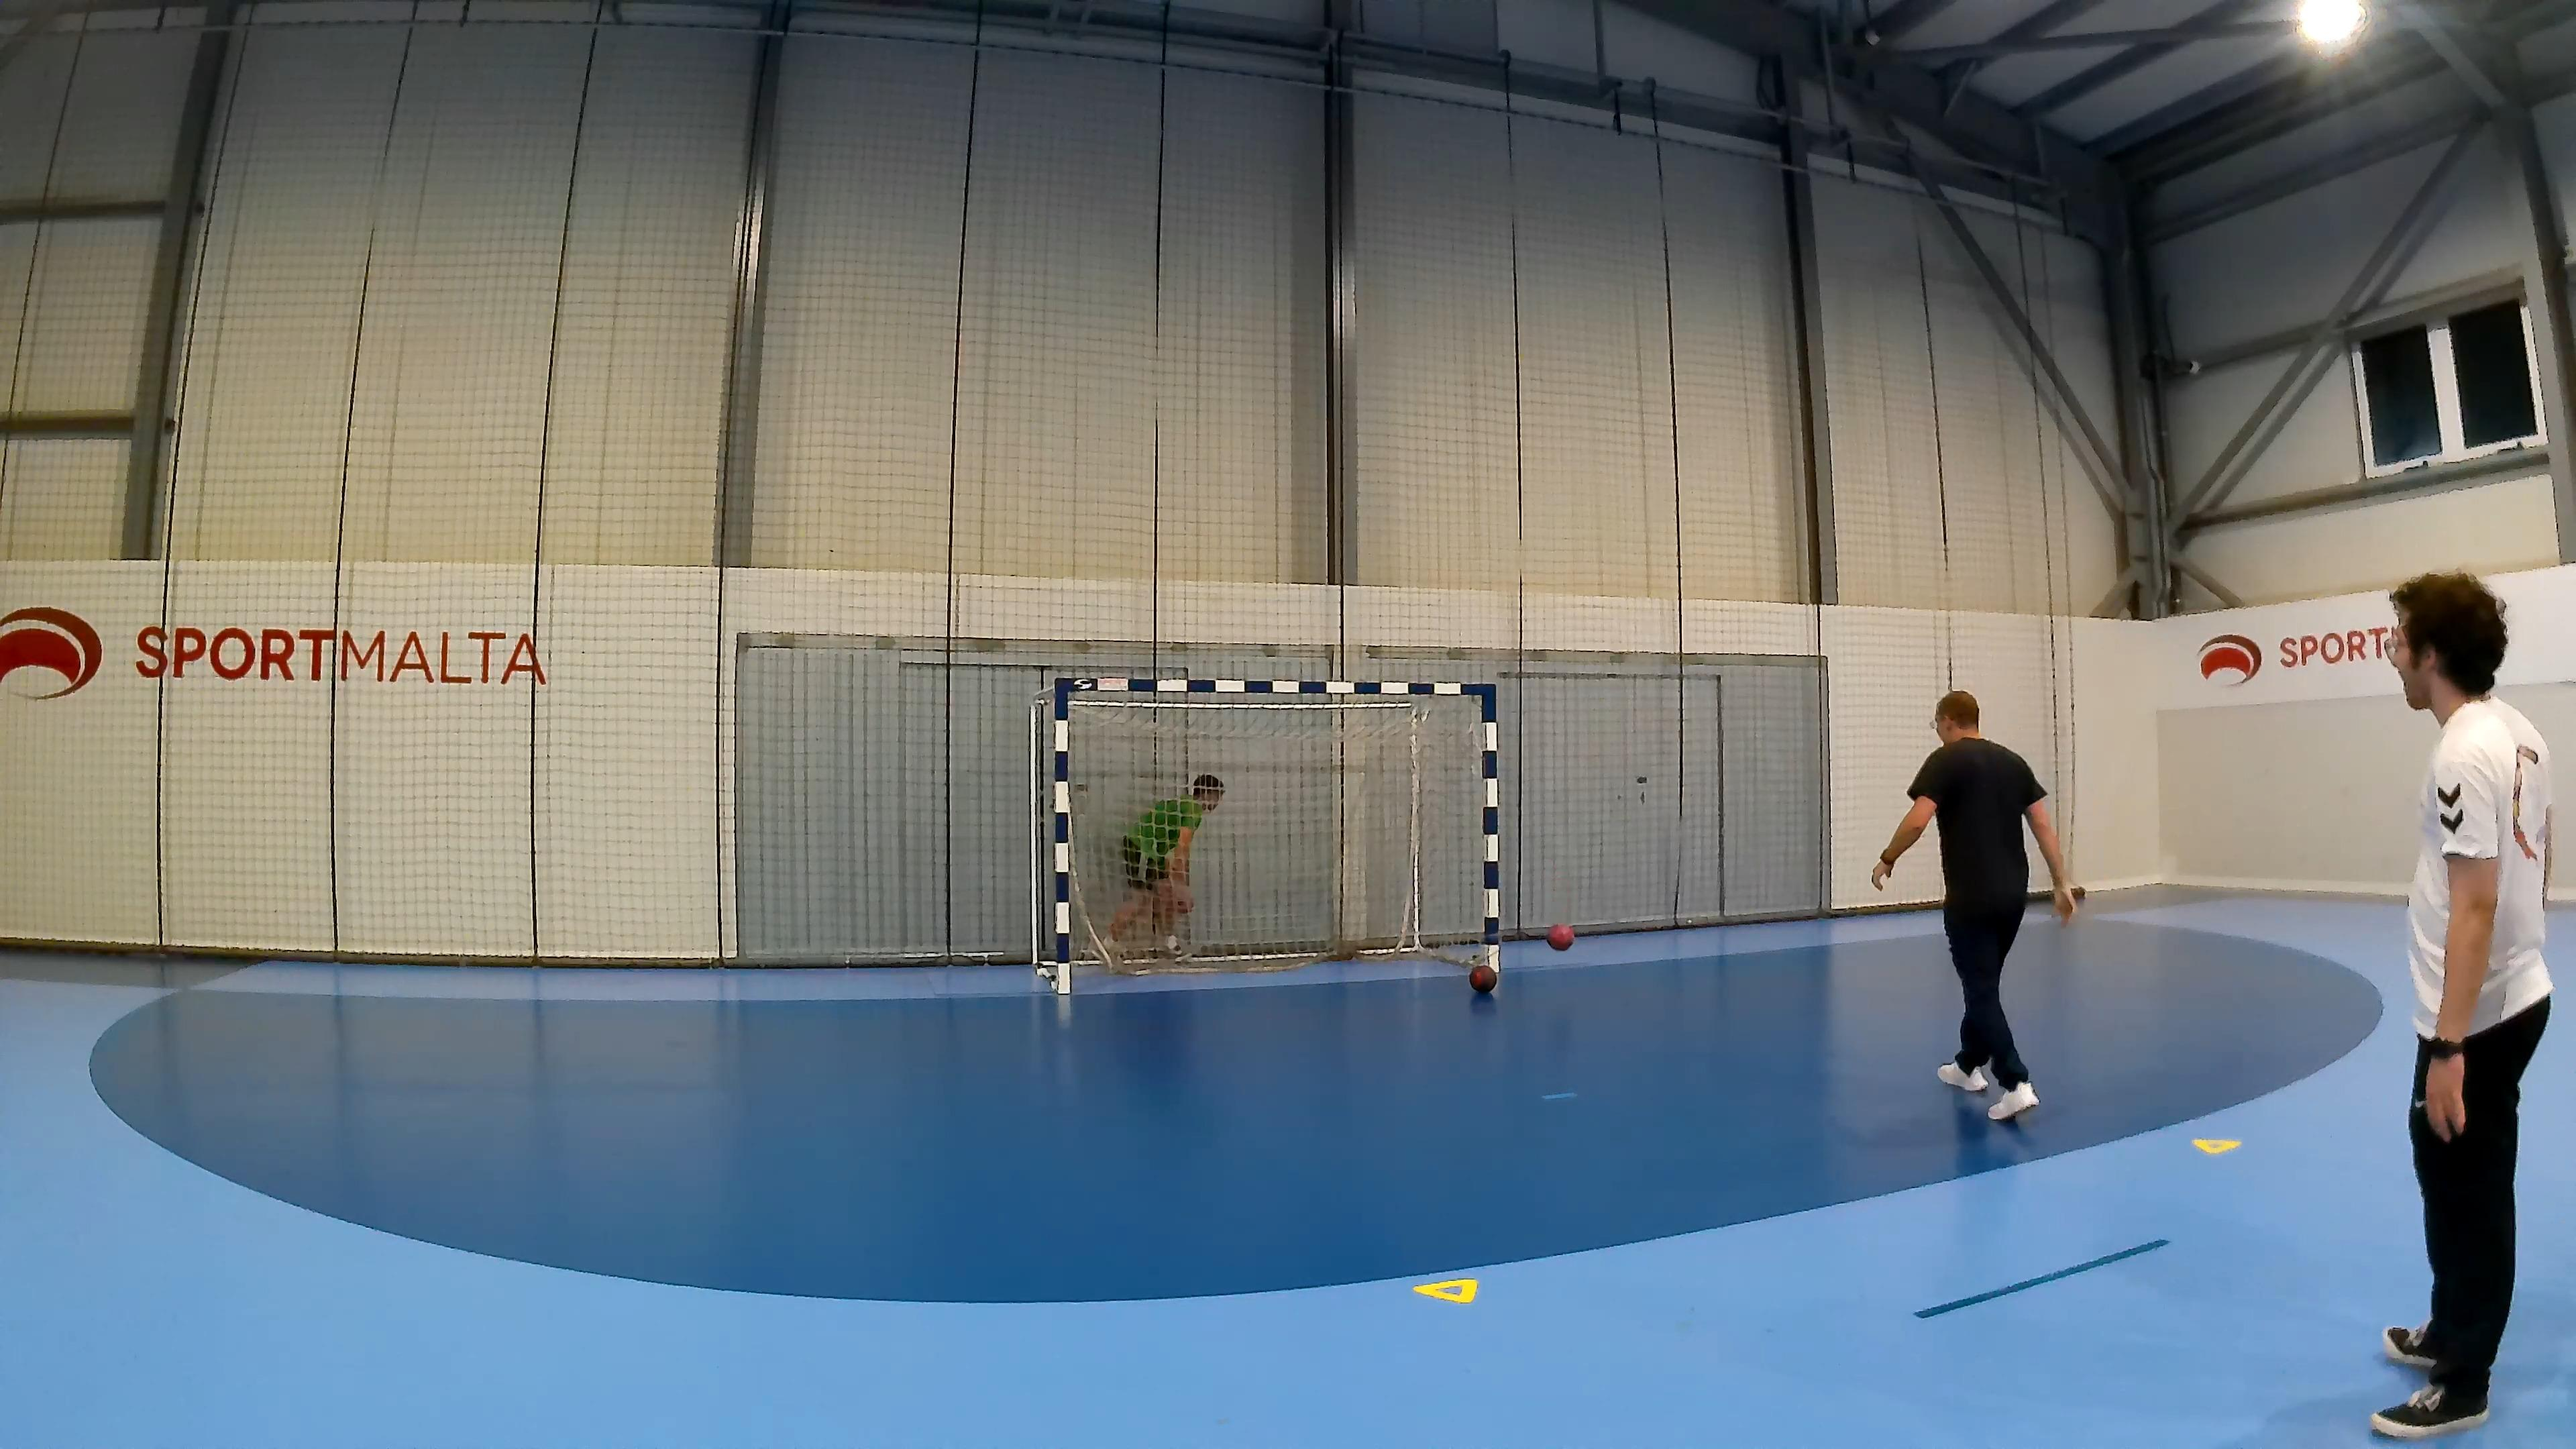handball: (1468, 962, 1497, 993), (1545, 922, 1573, 950)
